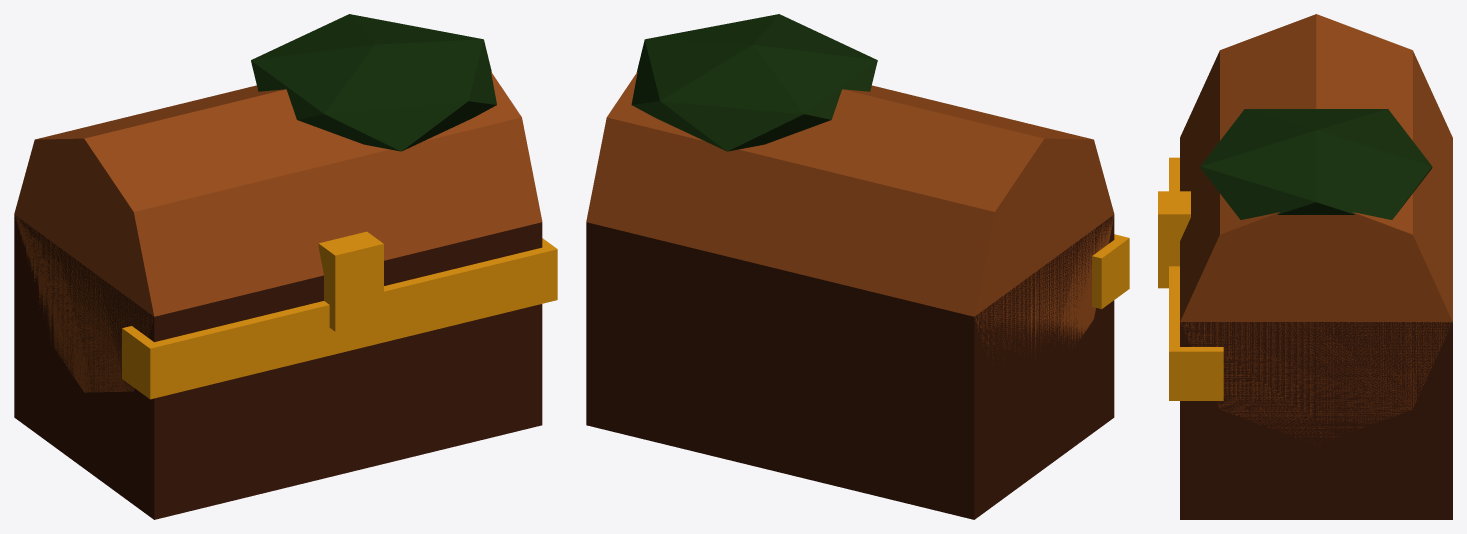
File: treasure_chest_mossy.obj
The picture shows the model from 3 angles, left to right: view 1: azimuth 30°, elevation 25°; view 2: azimuth 150°, elevation 25°; view 3: azimuth 270°, elevation 25°; orthographic projection. The views are drawn at different scales.
Parts seen in each view (by area): view 1: treasure_chest_mossy; view 2: treasure_chest_mossy; view 3: treasure_chest_mossy.
Boxes of the visible parts, <box> form: treasure_chest_mossy: <box>14,14,557,519</box>; treasure_chest_mossy: <box>586,14,1129,519</box>; treasure_chest_mossy: <box>1158,14,1452,519</box>.
Bounding box in the file's own units: 0.8436 × 0.695 × 0.54.
